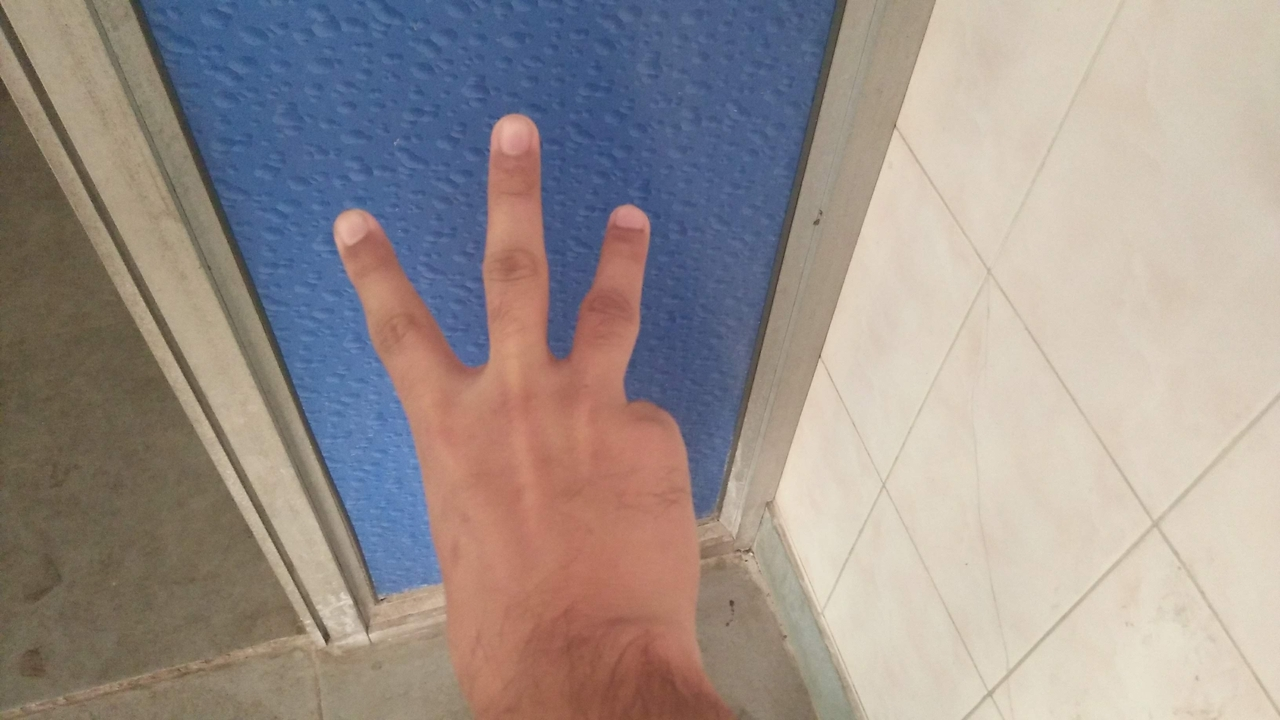fingertip: (312, 196, 390, 262), (476, 110, 546, 166), (592, 192, 656, 246)
